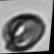correct: (0, 11, 48, 54)
